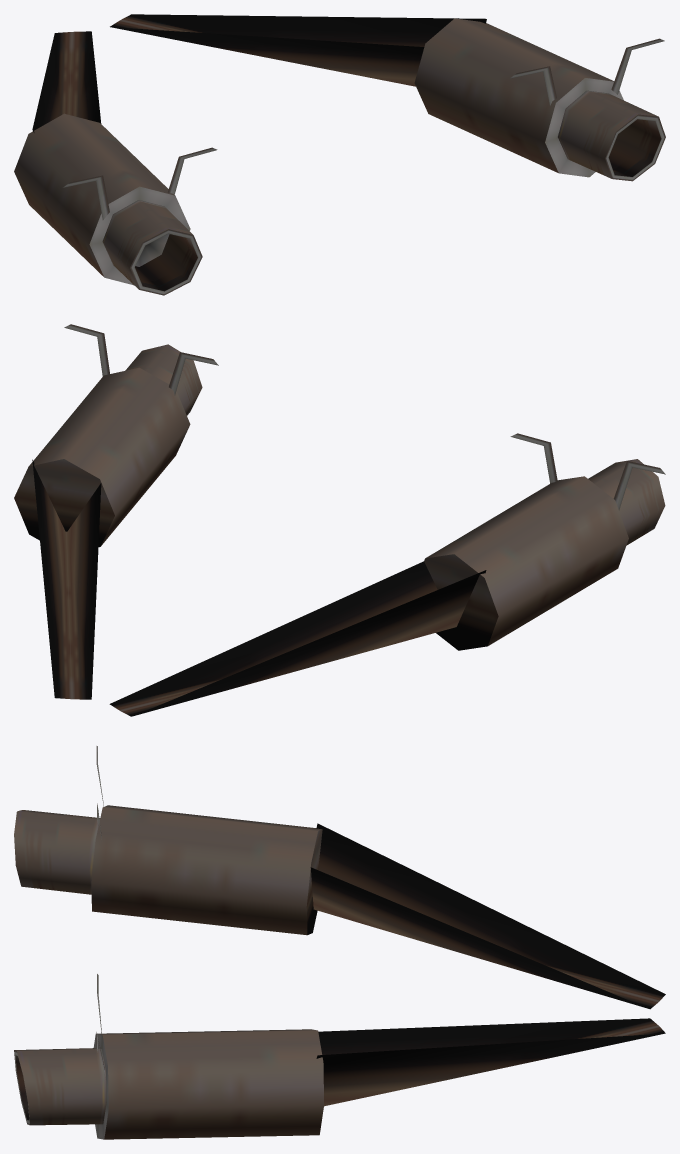
The model's file is exh_a_f.glb.
3 views of the same model, one above another, from view 1: azimuth 30°, elevation 25°; view 2: azimuth 150°, elevation 25°; view 3: azimuth 270°, elevation 25° (orthographic). The views are drawn at different scales.
Visible parts, largest first — view 1: exh_a_f; view 2: exh_a_f; view 3: exh_a_f.
Boxes of the visible parts, box(x1,y1,x2,y2) form: exh_a_f: box(14, 14, 665, 295); exh_a_f: box(14, 324, 665, 716); exh_a_f: box(14, 746, 665, 1139).
Size of the model in its own units: 1.41 by 0.294 by 1.26.
Materials: 1 (1 with a texture image).
